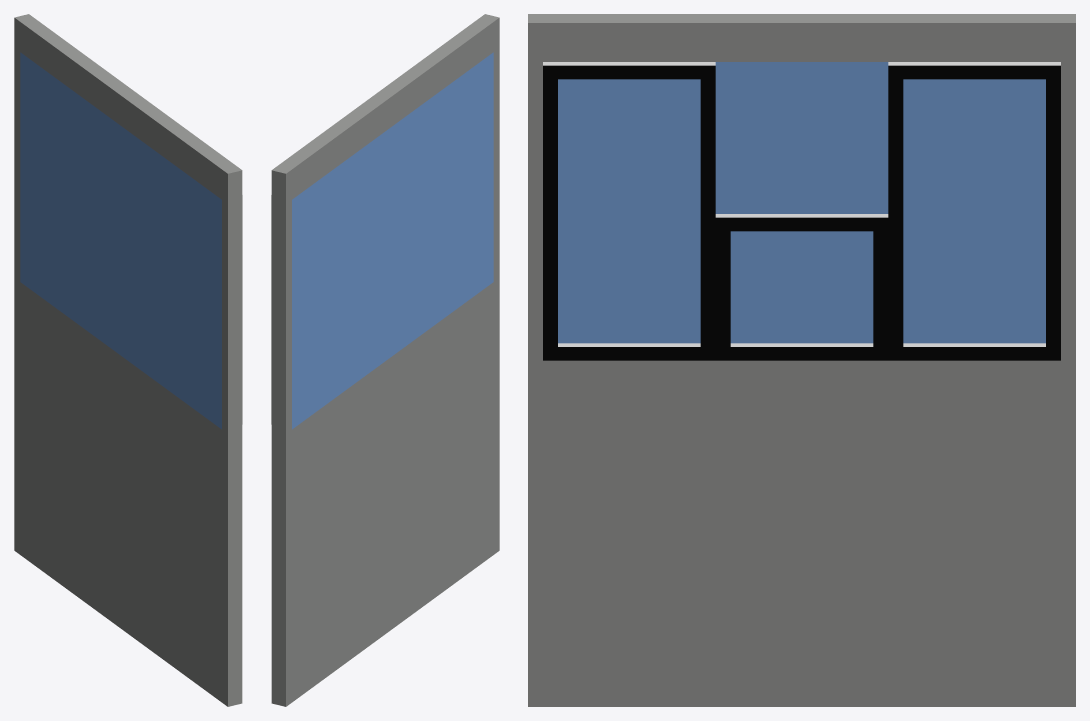
File: wall-1.glb
3 views of the same model, side by side, from view 1: azimuth 30°, elevation 25°; view 2: azimuth 150°, elevation 25°; view 3: azimuth 270°, elevation 25° (orthographic). The views are drawn at different scales.
Parts seen in each view (by area): view 1: Cube; view 2: Cube; view 3: Cube.
Boxes of the visible parts, box(x1,y1,x2,y2) form: Cube: box(14, 14, 242, 706); Cube: box(271, 14, 499, 706); Cube: box(528, 14, 1075, 706).
Bounding box in the file's own units: 0.6105 × 15.17 × 11.01.
